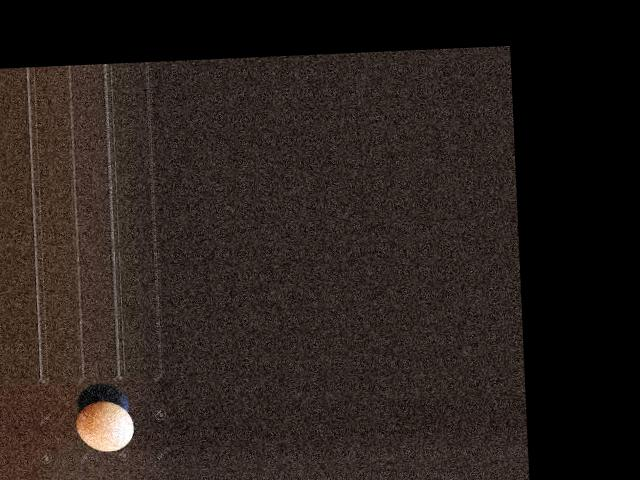egg: (75, 399, 134, 452)
